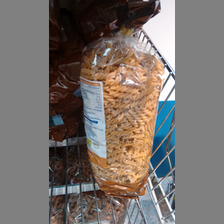pasta: (79, 33, 165, 197)
